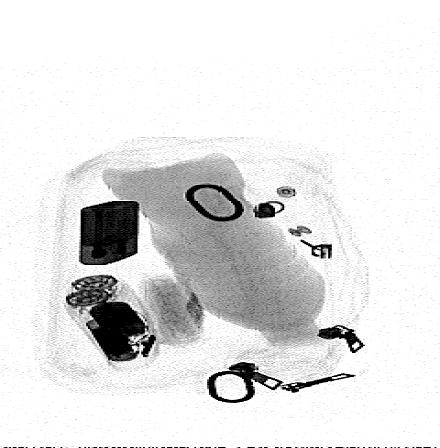Lighter: (79, 200, 140, 266)
